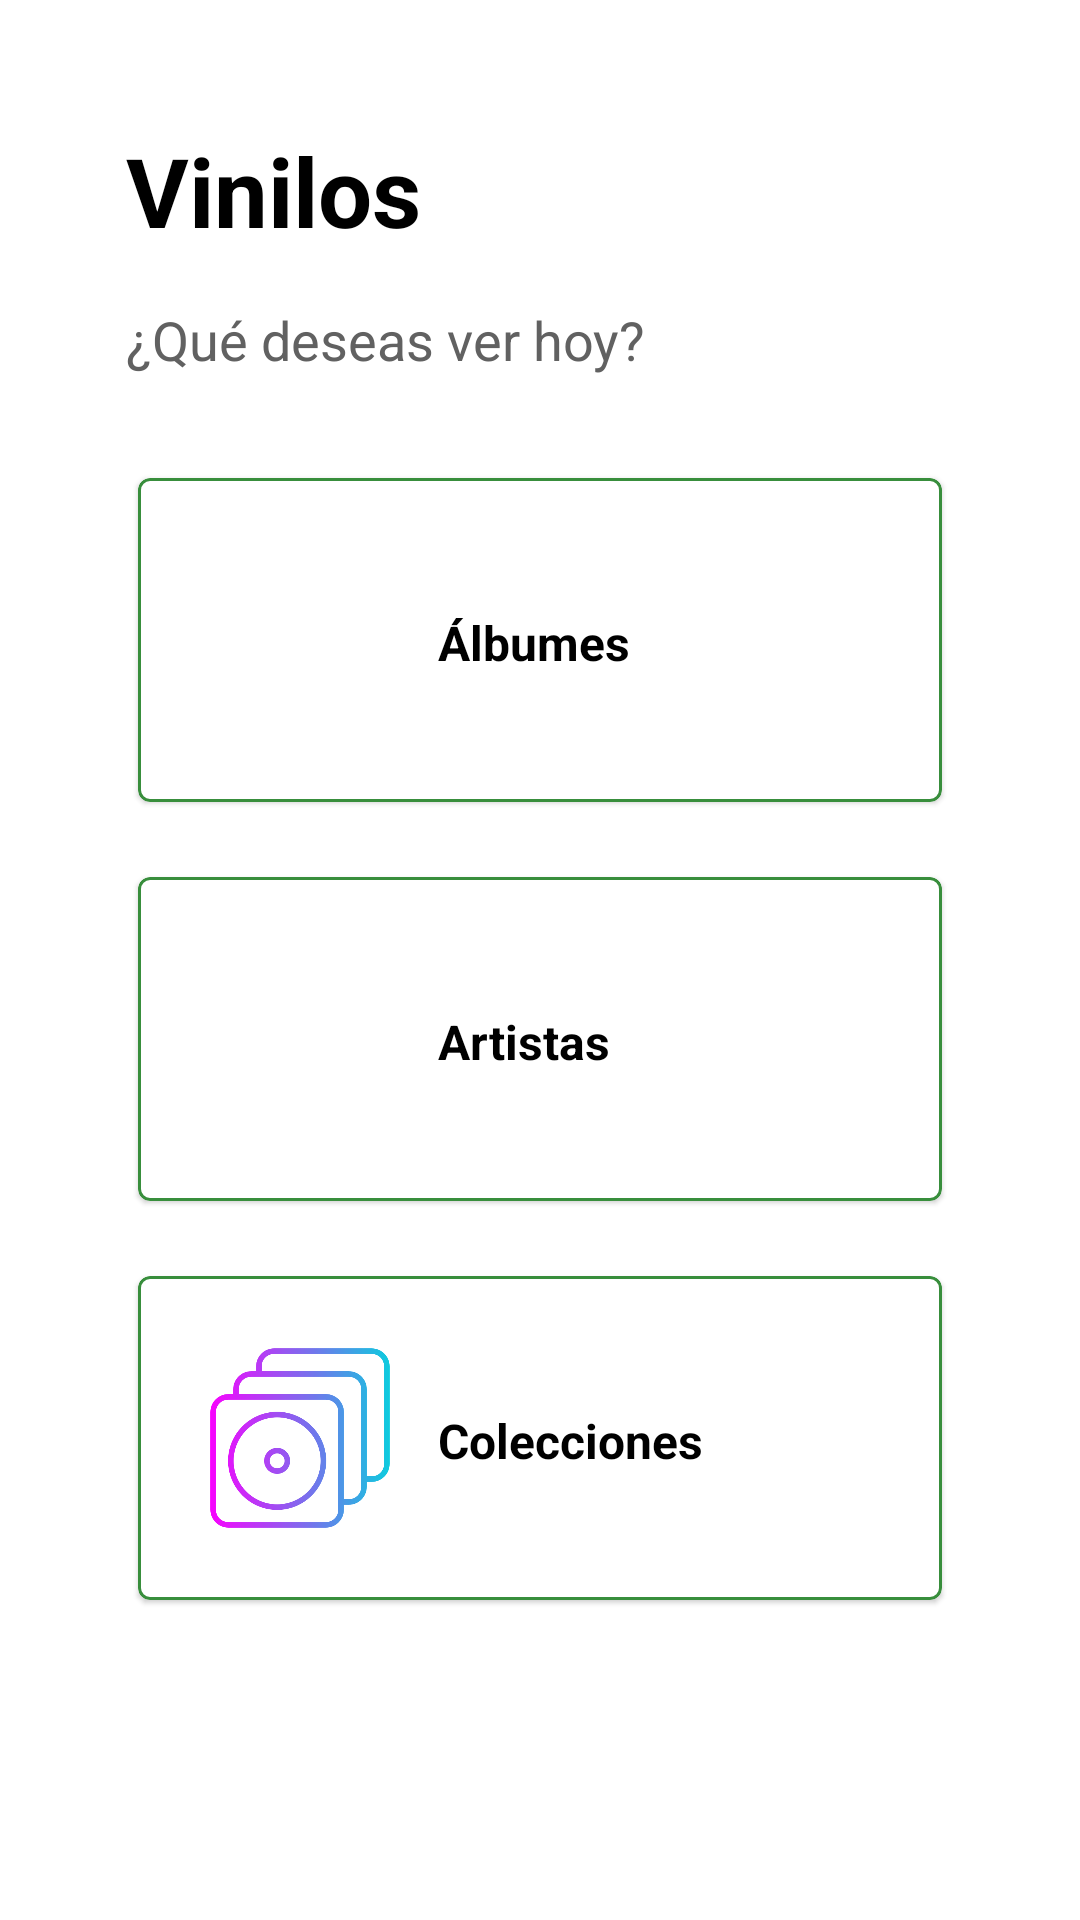

Icons on this 1080px×1920px Android screen, each with the point to tap as point (x, y):
Imagen de portada de la colección: point (300, 1438)
